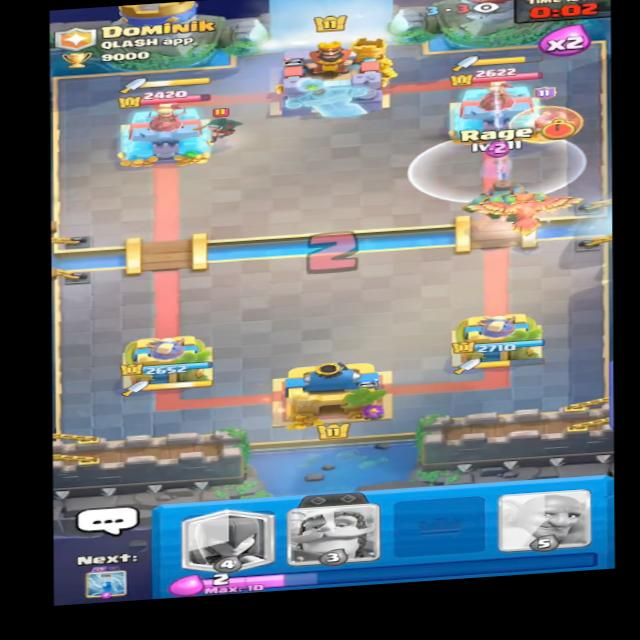Bandit: (193, 103, 243, 143)
Evowizard: (508, 91, 587, 152)
